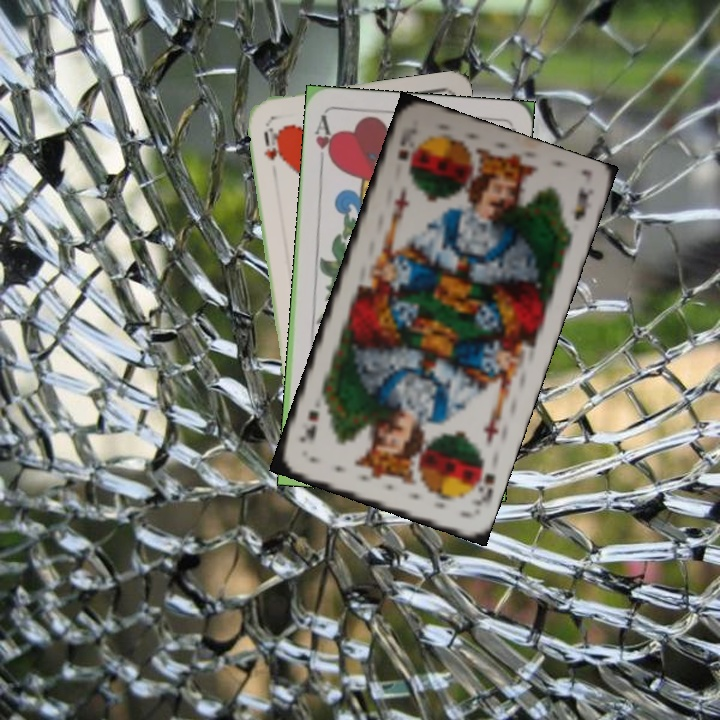HA: (310, 111, 337, 170)
HO: (259, 120, 285, 164)
SK: (465, 455, 498, 509), (393, 123, 420, 163)
